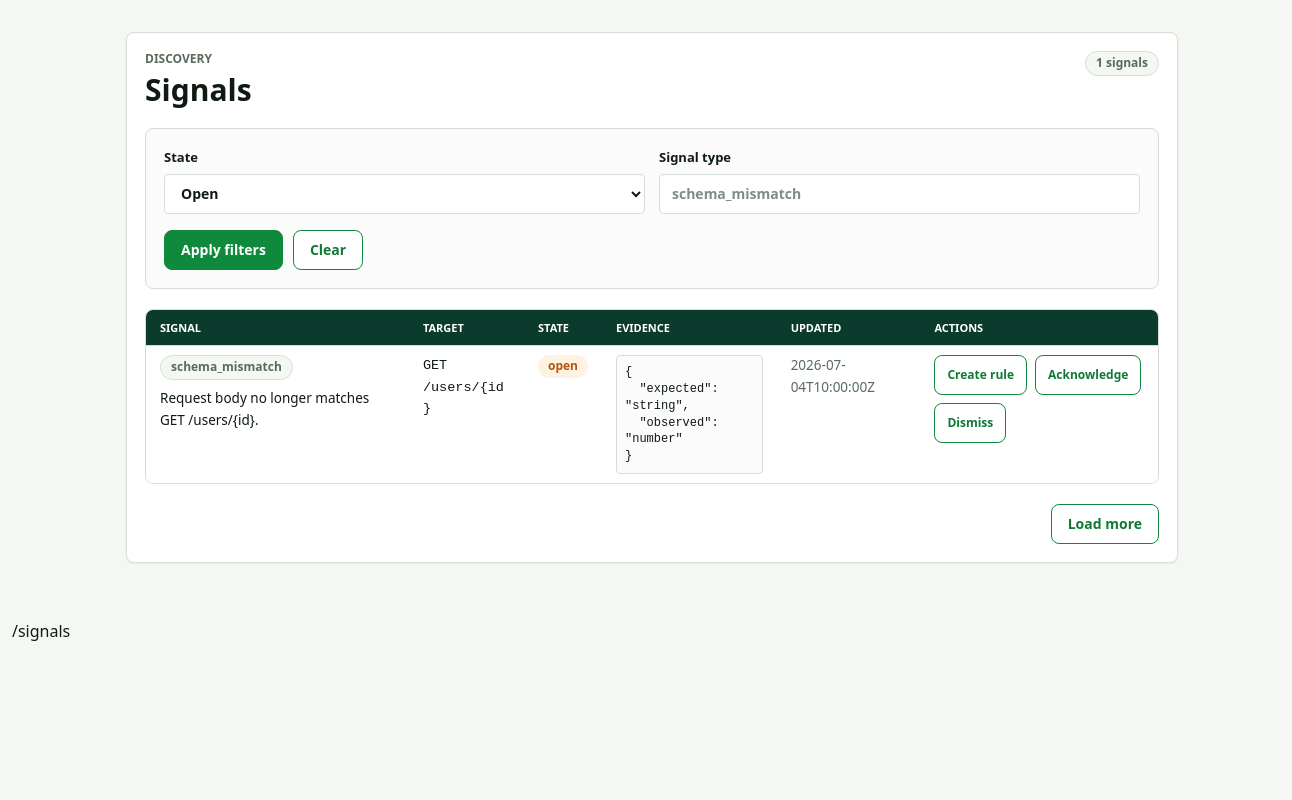
it: SignalsView › renders signal rows and appends cursor pages
Expected: the text "Request body no longer matches GET /users/{id}." is shown, [160,388,395,431]
Expected: the text "schema_mismatch" is shown, [160,355,293,380]
Click the button "Load more" at (1105, 524), box [1051,504,1159,544]
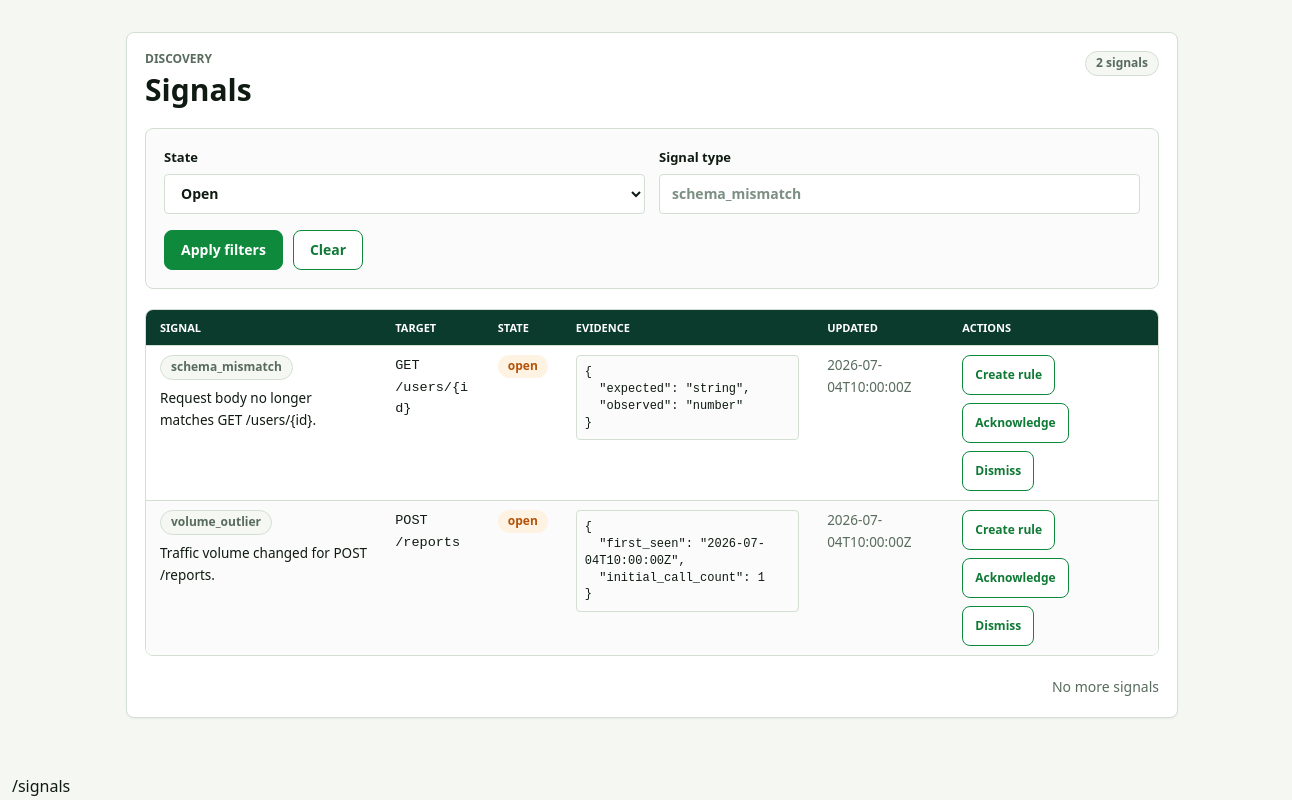
Now the text "Traffic volume changed for POST /reports." is shown, box [160,543,367,586]
